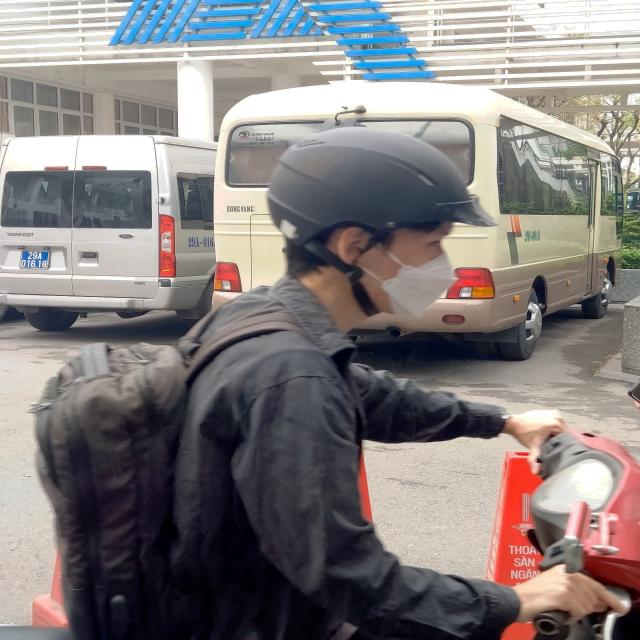license_plate: (19, 251, 53, 270)
